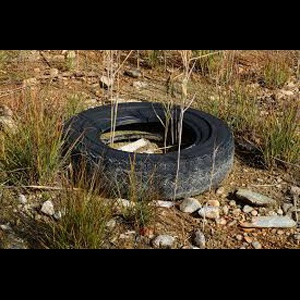tire: (60, 102, 234, 201)
